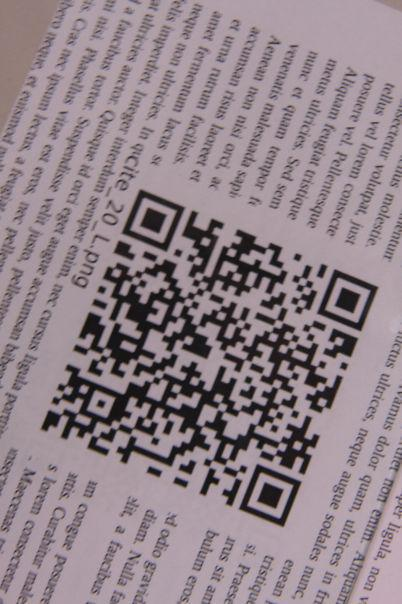Finder pattern: (312, 269, 383, 333), (238, 464, 307, 528), (119, 190, 187, 253)
